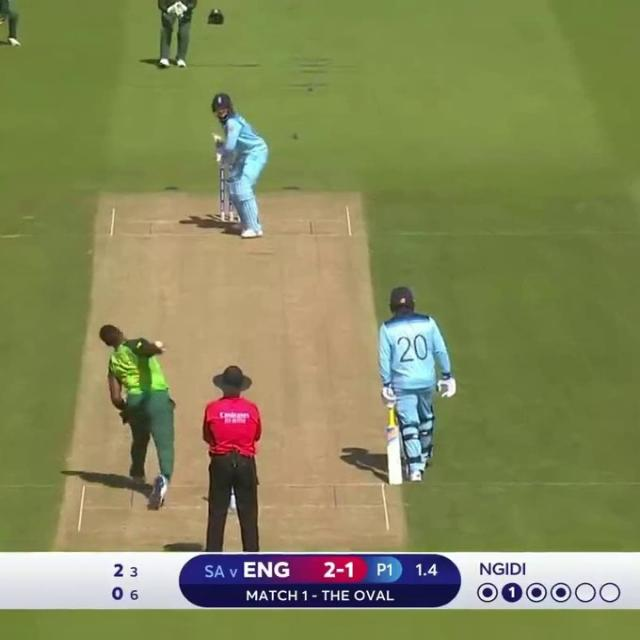bat: (386, 427, 402, 484), (211, 132, 224, 142)
toe: (388, 479, 404, 484)
